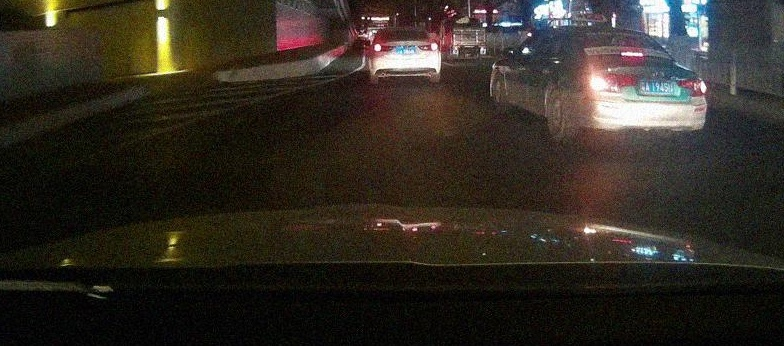L_light: (588, 72, 637, 91), (373, 43, 396, 52)
R_light: (677, 77, 707, 96), (418, 41, 438, 51)
T_light: (621, 52, 643, 57), (401, 30, 410, 33)
night-left: (574, 25, 707, 147)
night-no: (372, 27, 441, 86)
